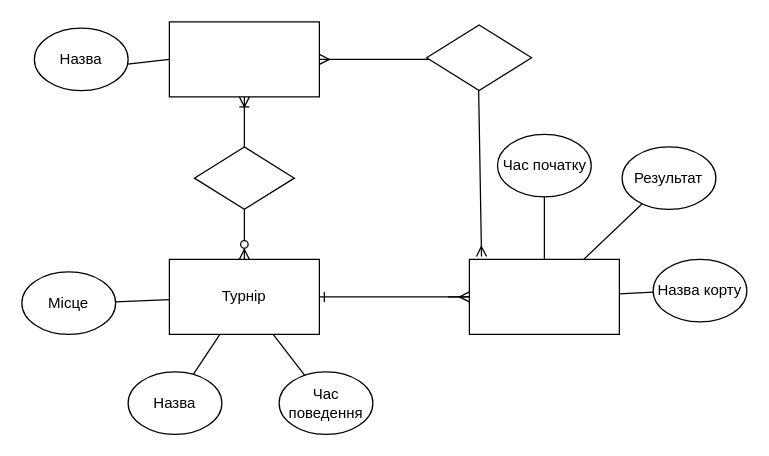
This 769x456 diagram has some shape labels left out. Here are the shapes that lost their labels. From the top down, the box of each, then its label:
(168, 21, 319, 97): Команда
(425, 24, 532, 91): Грають
(193, 146, 294, 209): Бере участь
(468, 258, 619, 334): Матч
